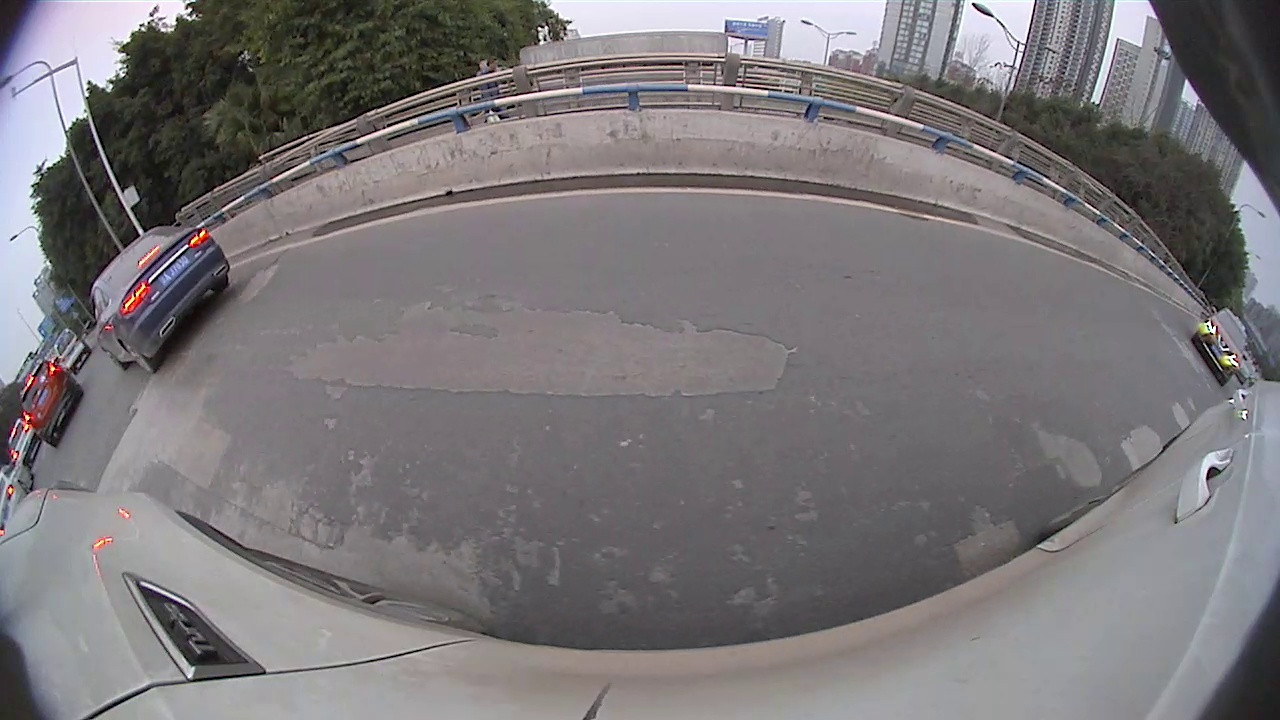bus: (813, 69, 1277, 259)
car: (85, 111, 490, 369), (1034, 214, 1279, 425), (701, 151, 794, 201), (522, 159, 580, 197)
front: (1061, 270, 1150, 368), (457, 189, 489, 248), (858, 174, 897, 220)
rear: (247, 238, 346, 359), (720, 169, 734, 198)
truck: (572, 21, 714, 200)
